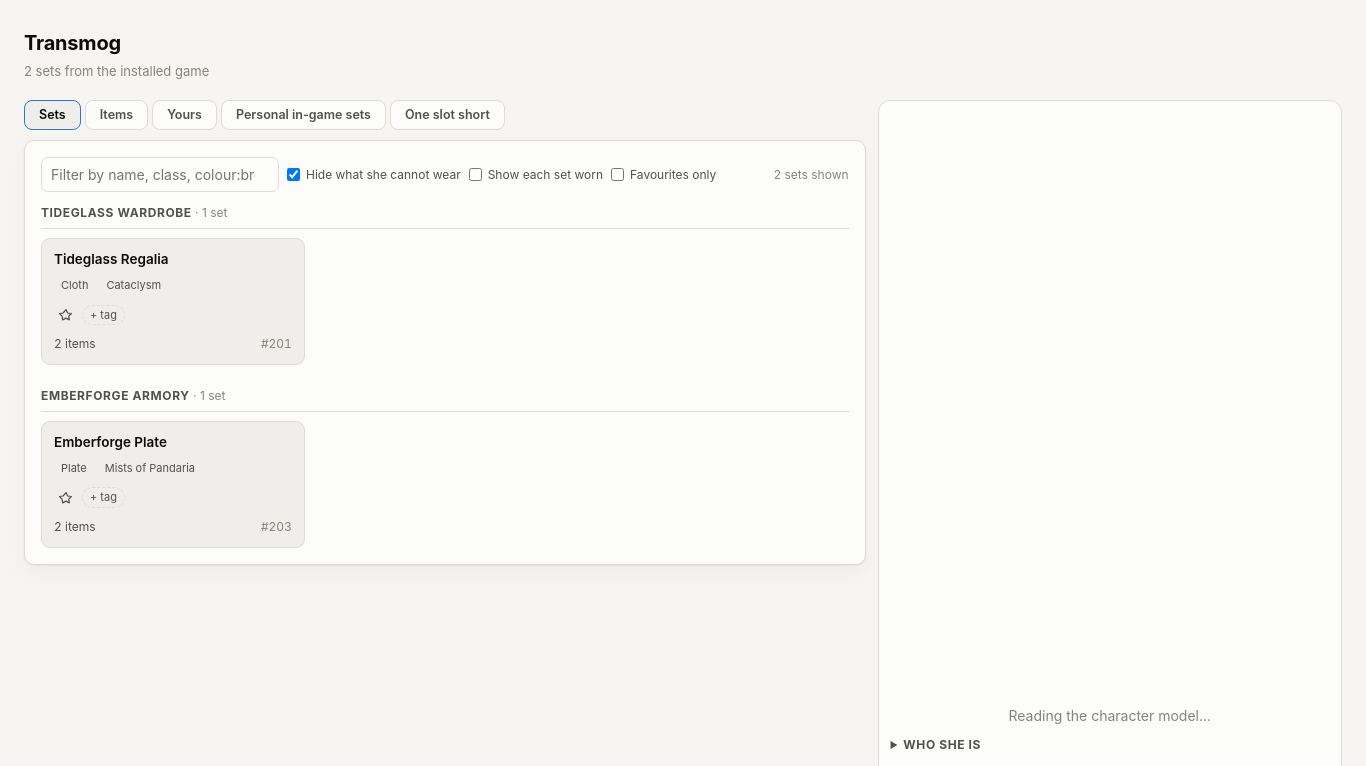
Test: TransmogView › opens a set in place and lists what the game says it is made of
Click the button "Tideglass Regalia" at (111, 259), box [54,250,168,268]
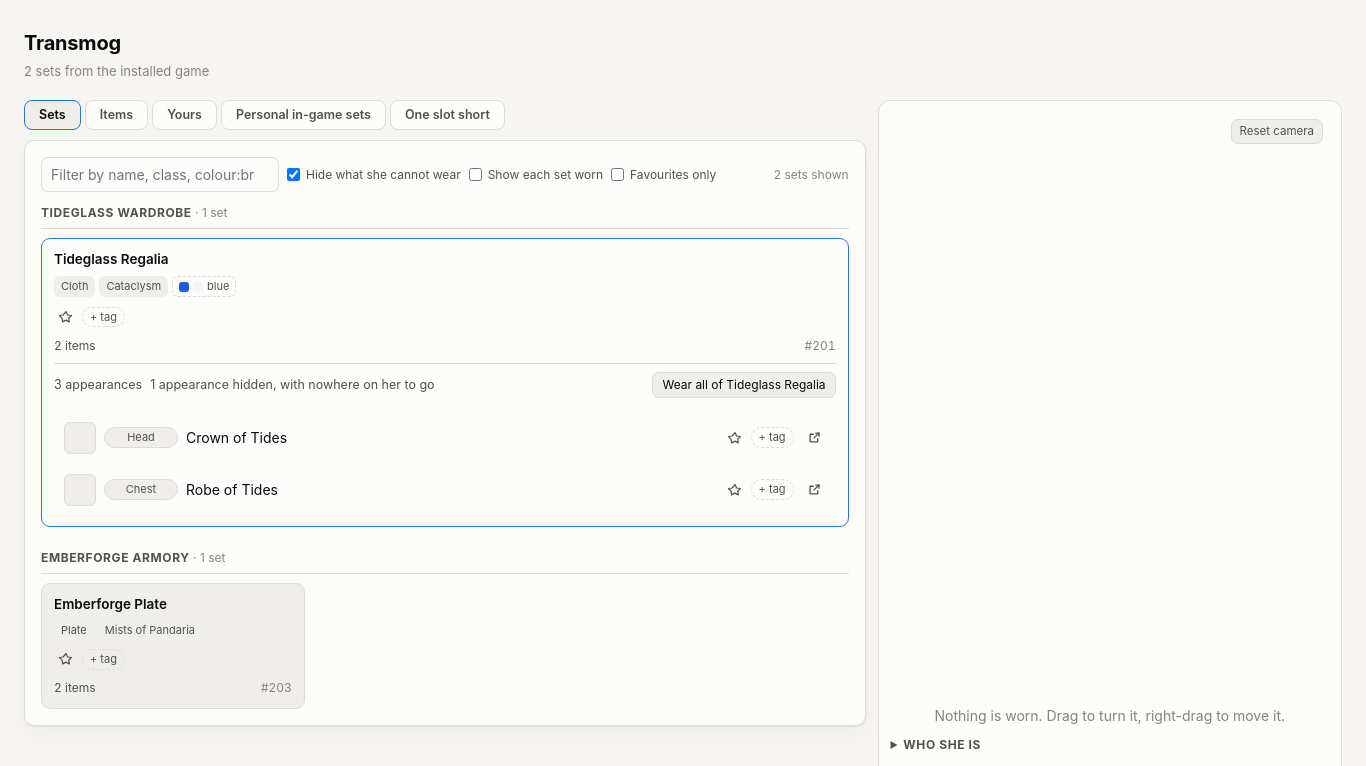
Check: the list item "Head Crown of Tides + tag" is shown, box [54,413,836,463]
Check: the text "Crown of Tides" is shown, box [186,427,287,448]
Check: the text "Robe of Tides" is shown, box [186,479,278,500]
